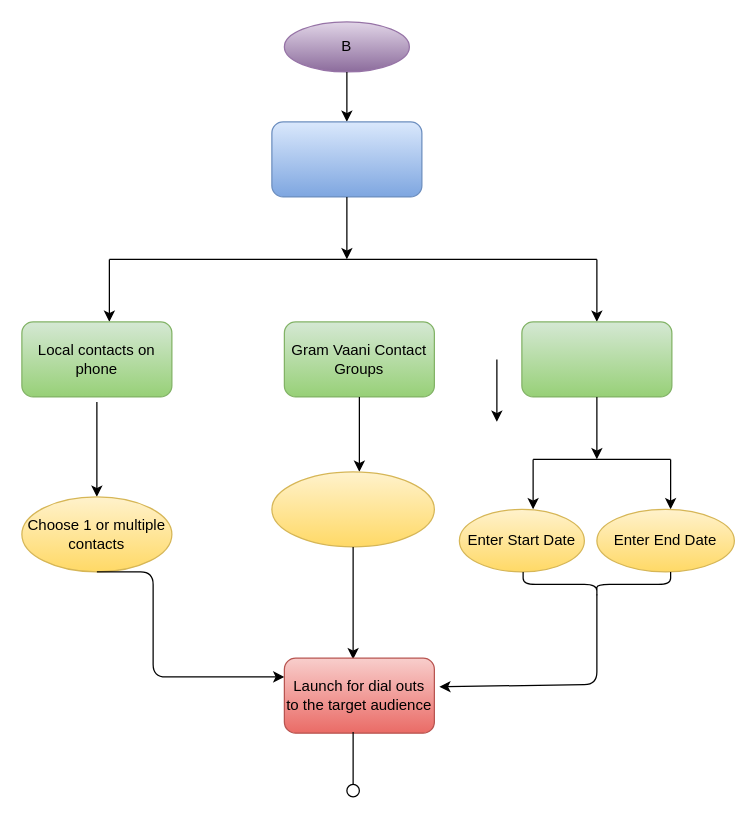
This 756x819 diagram has some shape labels left out. Here are the shapes that lost their labels. From the top down, the centre of each, then its label:
At pixel 346 159: "Send Options".
At pixel 596 359: "Recent Mobile Vaani Callers".
At pixel 352 509: "Choose 1 or multiple contact groups".
